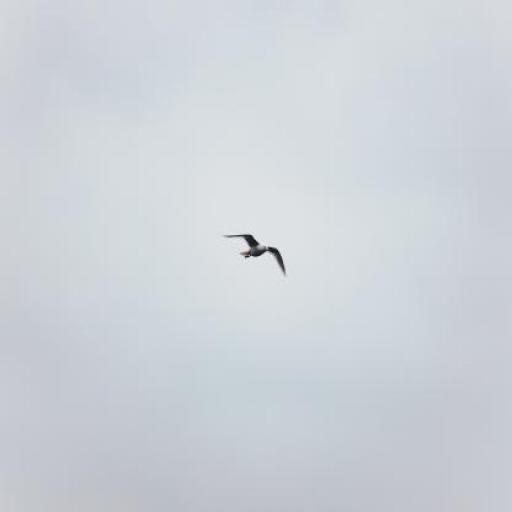bird: (223, 234, 287, 278)
